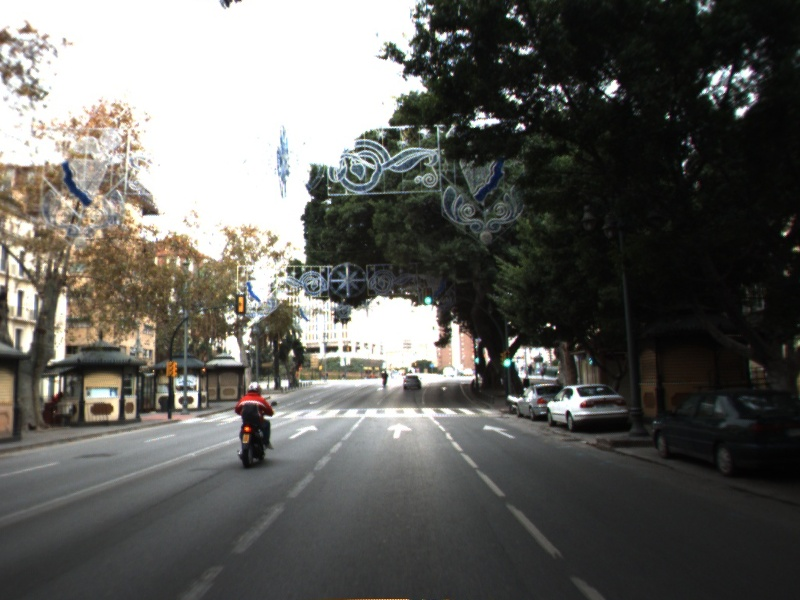STRAIGHT: (480, 423, 519, 441), (286, 423, 320, 441), (384, 421, 415, 440)
